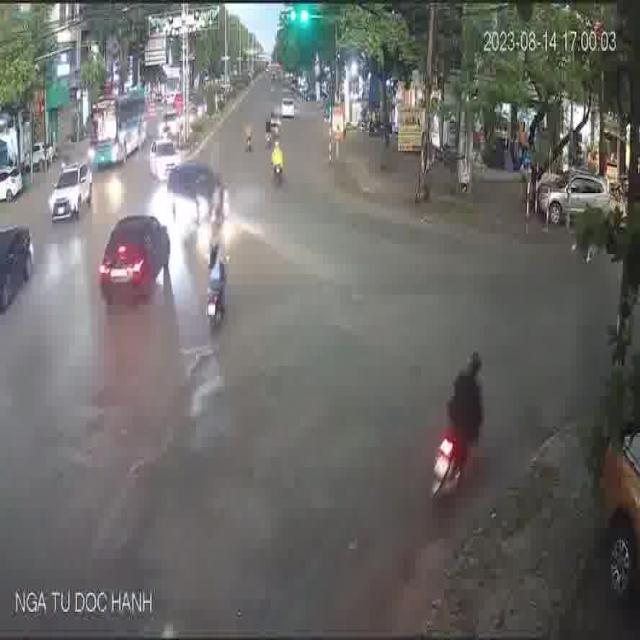normal: (389, 316, 523, 507), (165, 159, 232, 243), (190, 231, 244, 334)
